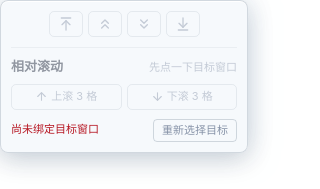
it: ScrollNavigator › offers a one-click retarget instead of a dead panel when no target is bound
The image size is (320, 189).
Expected: the button named "到达顶部" is disabled, 48,11 -> 82,37
Expected: the button "下滚 3 格" is disabled, 126,84 -> 237,110
What coordinates should you click on to do the following:
click the button "重新选择目标"
I would click on:
 (195, 130)
Its box is 153,118 -> 237,142.
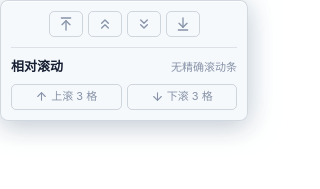
Result: the button named "到达顶部" is enabled at 48,11 -> 82,37
